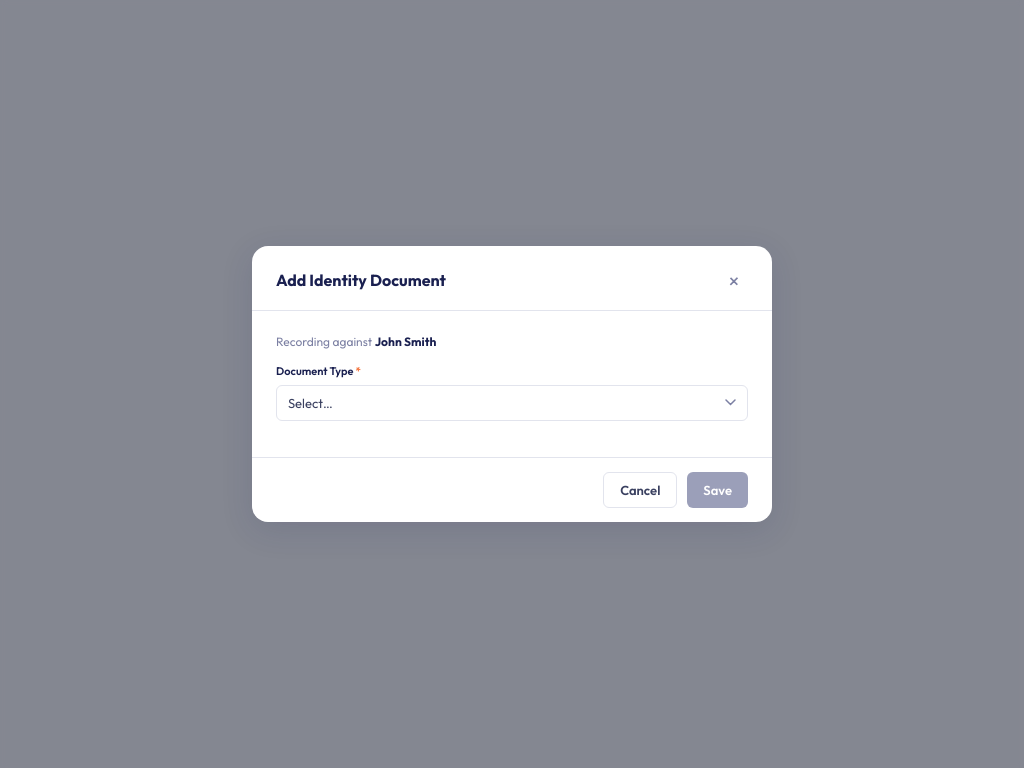
Test: IdentityDocumentModal › surfaces a save failure without closing
Select "Hong Kong Identity Card" in the dropdown labelled "Document Type *" at (512, 403), box [276,385,748,421]
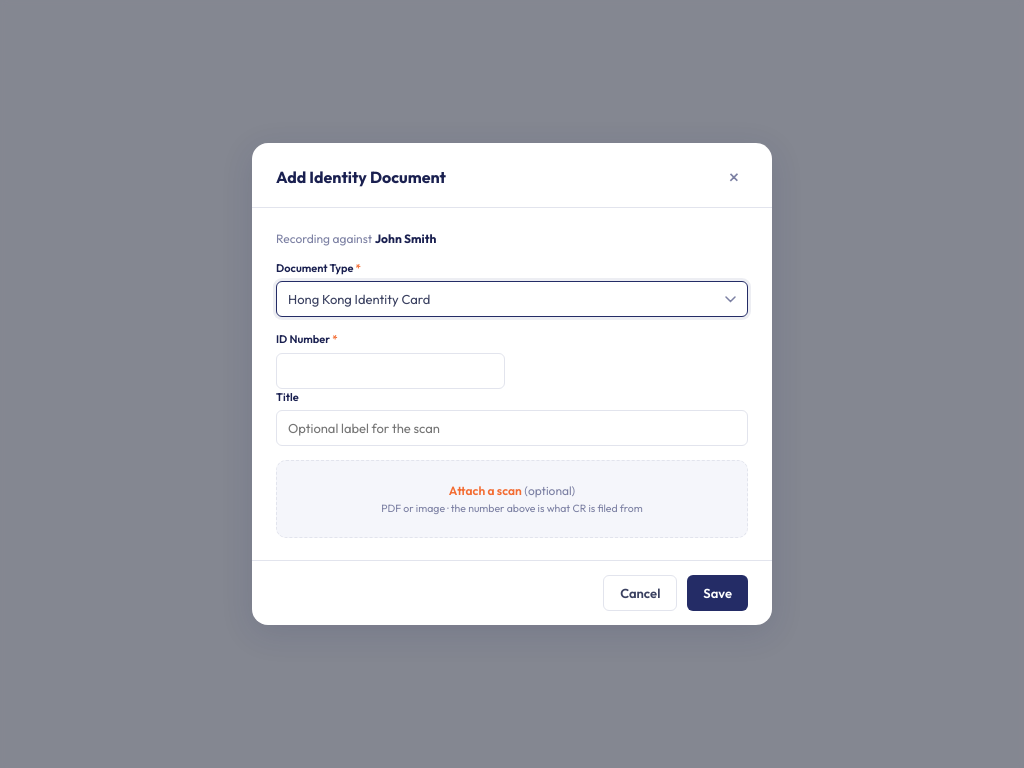
Type "A123456(3)" into the field labelled "ID Number *" at (390, 371), box [276,353,505,389]
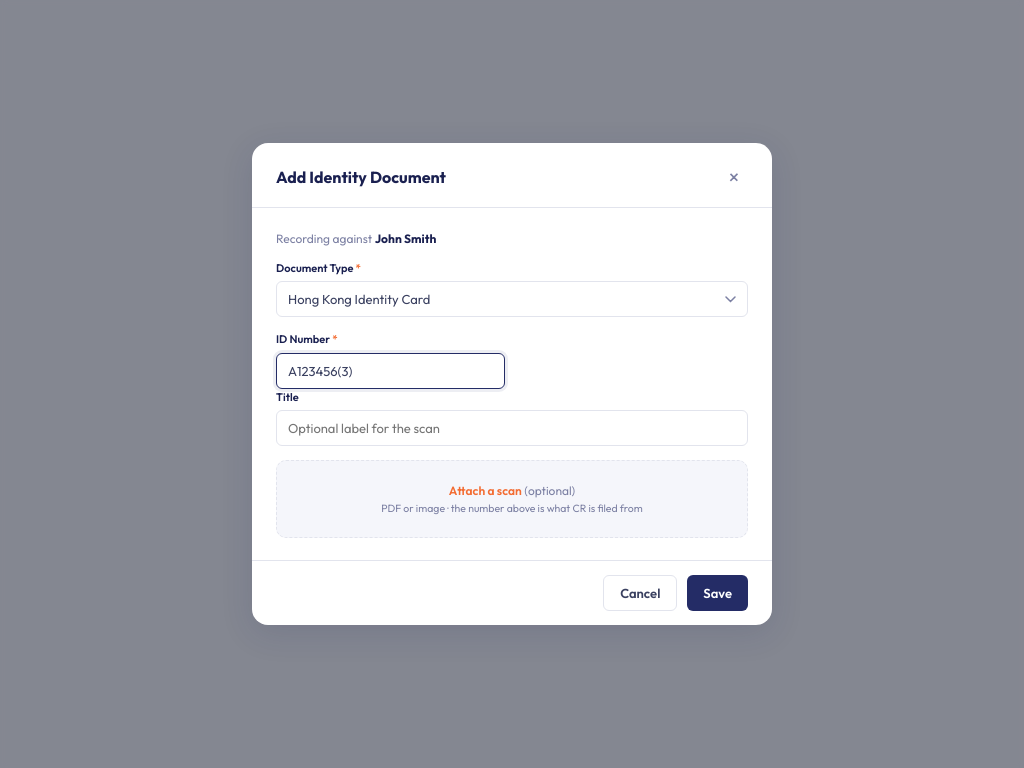
Click the button "Save" at (718, 593), box [687,575,748,611]
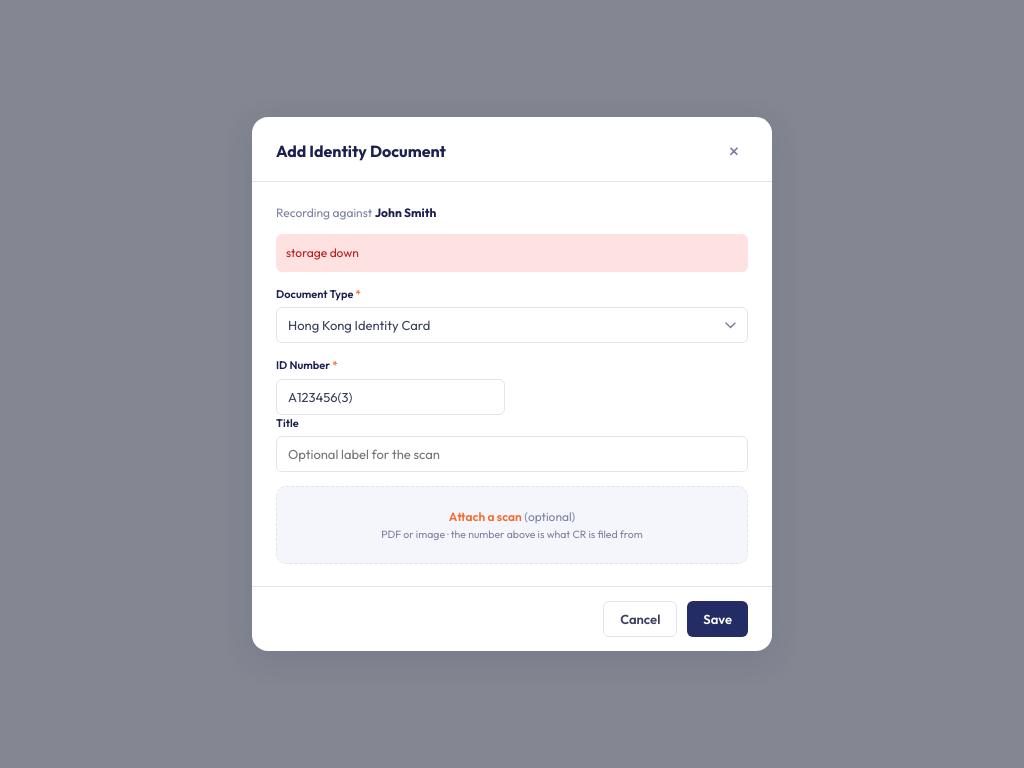
Expected: the text "storage down" is shown, [276,234,748,272]
